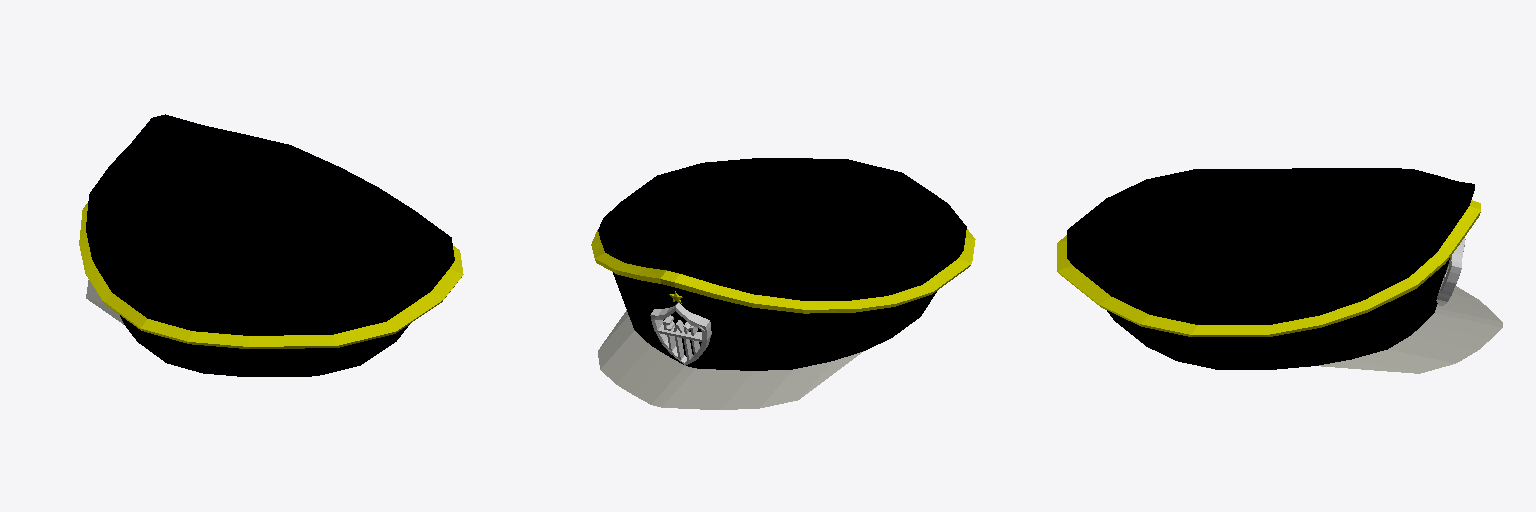
Rendered from cap.obj.
3 views of the same model, side by side, from view 1: azimuth 30°, elevation 25°; view 2: azimuth 150°, elevation 25°; view 3: azimuth 270°, elevation 25° (orthographic).
Parts seen in each view (by area): view 1: Cube_Cube; view 2: Cube_Cube; view 3: Cube_Cube.
Boxes of the visible parts, x1,y1,x2,y2 form: Cube_Cube: [79, 114, 463, 376]; Cube_Cube: [591, 158, 975, 409]; Cube_Cube: [1057, 168, 1502, 373].
Bounding box in the file's own units: 8.86 × 3.65 × 10.7.